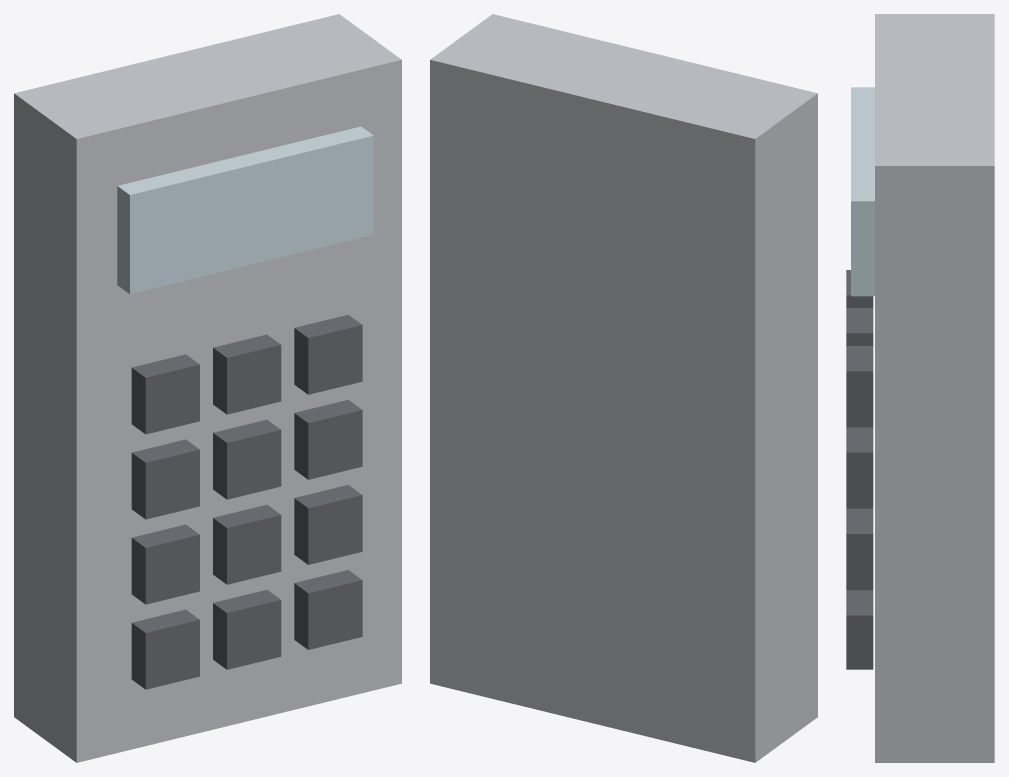
Rendered from bank-vault-heist-kit-keypad-82cbd5db__25106.glb.
3 views of the same model, side by side, from view 1: azimuth 30°, elevation 25°; view 2: azimuth 150°, elevation 25°; view 3: azimuth 270°, elevation 25° (orthographic). The views are drawn at different scales.
Visible parts, largest first — view 1: keypad; view 2: keypad; view 3: keypad.
Boxes of the visible parts, x1,y1,x2,y2 form: keypad: [14, 14, 401, 762]; keypad: [430, 14, 817, 762]; keypad: [846, 14, 994, 762].
Bounding box in the file's own units: 0.12 × 0.22 × 0.0495.
